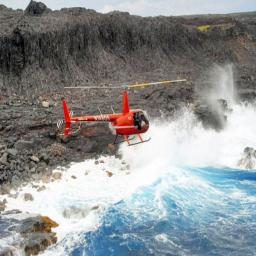helicopter: (62, 80, 188, 147)
